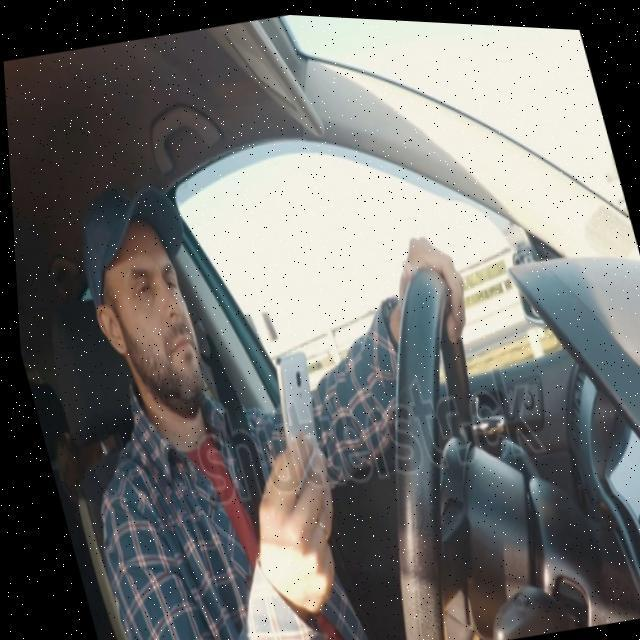PhoneCall: (258, 343, 332, 480)
